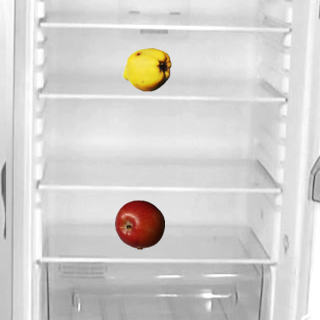Apple Braeburn: (114, 199, 164, 249)
Quince: (121, 44, 171, 94)
